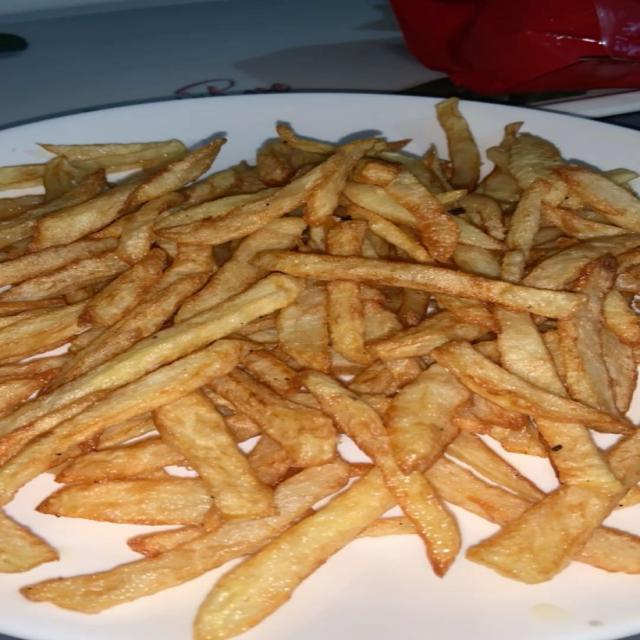potato fries: (0, 99, 639, 639)
